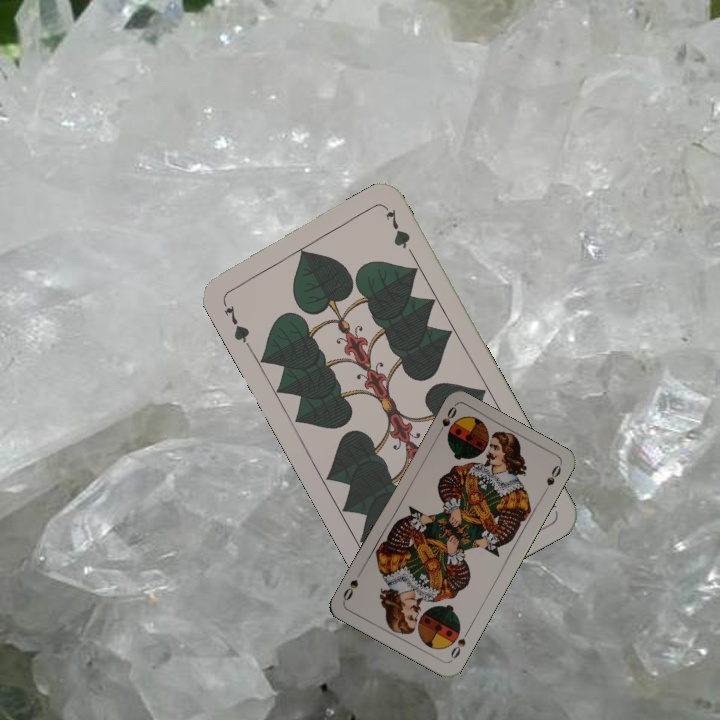G7: (218, 295, 253, 350)
SO: (433, 402, 460, 440), (446, 626, 472, 661)
